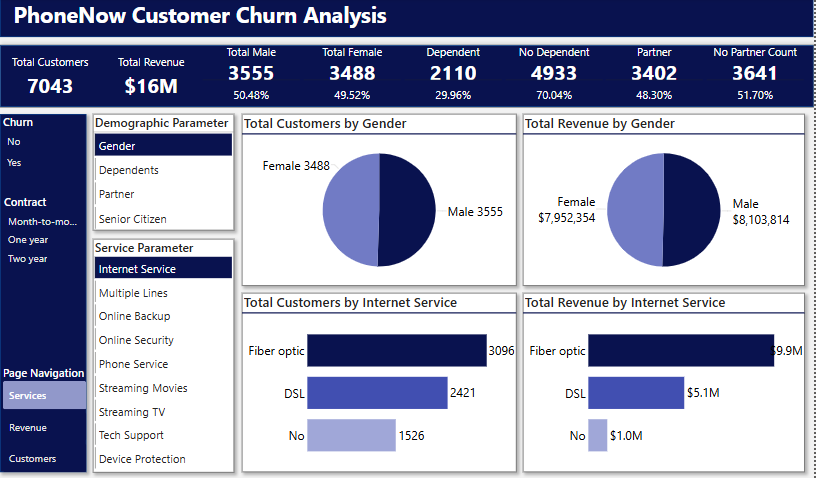

This screenshot's page, from the dashboard's own definition file:
{"tool":"powerbi","page":{"name":"Services","canvas":[2700,1600],"ordinal":0},"visuals":[{"type":"shape","box":[0,386.1,286.6,1188.6],"z":0},{"type":"shape","box":[0,0,2700,129.7],"z":1000},{"type":"textbox","box":[39.2,0,1282.1,126.7],"z":2000},{"type":"shape","box":[0,156.5,2701.1,206.6],"z":3000},{"type":"cardVisual","fields":{"Data":["All Measures.Total Customers"]},"box":[0,156.5,333.6,206.6],"z":4000},{"type":"cardVisual","fields":{"Data":["All Measures.Total Male"]},"box":[668.8,156.5,333.6,206.6],"z":5000},{"type":"cardVisual","fields":{"Data":["All Measures.No Dependent Count"]},"box":[1672.1,156.5,333.6,206.6],"z":6000},{"type":"cardVisual","fields":{"Data":["All Measures.Dependent Count"]},"box":[1337.7,156.5,333.6,206.6],"z":7000},{"type":"cardVisual","fields":{"Data":["All Measures.Partner Count"]},"box":[2006.5,156.5,333.6,206.6],"z":8000},{"type":"cardVisual","fields":{"Data":["All Measures.No Partner Count"]},"box":[2341,156.5,333.6,206.6],"z":9000},{"type":"cardVisual","fields":{"Data":["All Measures.Total Female"]},"box":[1003.3,156.5,333.6,206.6],"z":10000},{"type":"cardVisual","fields":{"Data":["All Measures.Total Revenue"]},"box":[334.4,156.5,333.6,206.6],"z":11000},{"type":"advancedSlicerVisual","fields":{"Values":["Demographic Parameter.Demographic Parameter"]},"box":[307.7,386.1,467.6,386.1],"z":12000},{"type":"pieChart","fields":{"Category":["01 Churn-Dataset.Gender"],"Y":["All Measures.Total Customers"]},"box":[802.5,386.1,911.1,570.2],"z":13000},{"type":"advancedSlicerVisual","fields":{"Values":["Service  Usage Parameter.Service Parameter"]},"box":[307.7,799.4,467.6,775.3],"z":14000},{"type":"barChart","fields":{"Category":["01 Churn-Dataset.Internet Service"],"Y":["All Measures.Total Customers"]},"box":[802.5,980.4,911.1,594.3],"z":15000},{"type":"pieChart","fields":{"Category":["01 Churn-Dataset.Gender"],"Y":["All Measures.Total Revenue"]},"box":[1737.7,386.1,935.2,570.2],"z":16000},{"type":"barChart","fields":{"Category":["01 Churn-Dataset.Internet Service"],"Y":["All Measures.Total Revenue"]},"box":[1737.7,980.4,935.2,594.3],"z":17000},{"type":"pageNavigator","title":"Page Navigation","box":[0,1218.8,286.6,356],"z":18000},{"type":"advancedSlicerVisual","fields":{"Values":["01 Churn-Dataset.Churn"]},"box":[0,386.1,280.6,193.1],"z":19000},{"type":"advancedSlicerVisual","fields":{"Values":["01 Churn-Dataset.Contract"]},"box":[3,651.6,280.6,241.3],"z":20000}]}

Visuals, with their boxes in screenshot pixels (x1, y1, x2, y2), scaled from the page's 2700x1600 canvas onto the 816x478 screenshot:
shape: 0, 115, 87, 470
shape: 0, 0, 815, 39
textbox: 12, 0, 399, 38
shape: 0, 47, 815, 108
cardVisual - All Measures.Total Customers: 0, 47, 101, 108
cardVisual - All Measures.Total Male: 202, 47, 303, 108
cardVisual - All Measures.No Dependent Count: 505, 47, 606, 108
cardVisual - All Measures.Dependent Count: 404, 47, 505, 108
cardVisual - All Measures.Partner Count: 606, 47, 707, 108
cardVisual - All Measures.No Partner Count: 708, 47, 808, 108
cardVisual - All Measures.Total Female: 303, 47, 404, 108
cardVisual - All Measures.Total Revenue: 101, 47, 202, 108
advancedSlicerVisual - Demographic Parameter.Demographic Parameter: 93, 115, 234, 231
pieChart - 01 Churn-Dataset.Gender x All Measures.Total Customers: 243, 115, 518, 286
advancedSlicerVisual - Service  Usage Parameter.Service Parameter: 93, 239, 234, 470
barChart - 01 Churn-Dataset.Internet Service x All Measures.Total Customers: 243, 293, 518, 470
pieChart - 01 Churn-Dataset.Gender x All Measures.Total Revenue: 525, 115, 808, 286
barChart - 01 Churn-Dataset.Internet Service x All Measures.Total Revenue: 525, 293, 808, 470
"Page Navigation" pageNavigator: 0, 364, 87, 470
advancedSlicerVisual - 01 Churn-Dataset.Churn: 0, 115, 85, 173
advancedSlicerVisual - 01 Churn-Dataset.Contract: 1, 195, 86, 267
